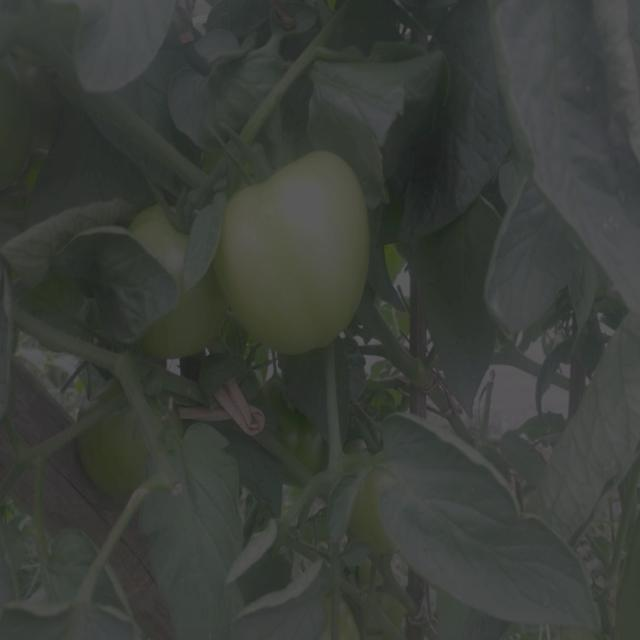tomato: (221, 148, 369, 350), (71, 386, 149, 500), (151, 292, 234, 361), (343, 454, 390, 559), (134, 207, 200, 274), (273, 389, 322, 478)
